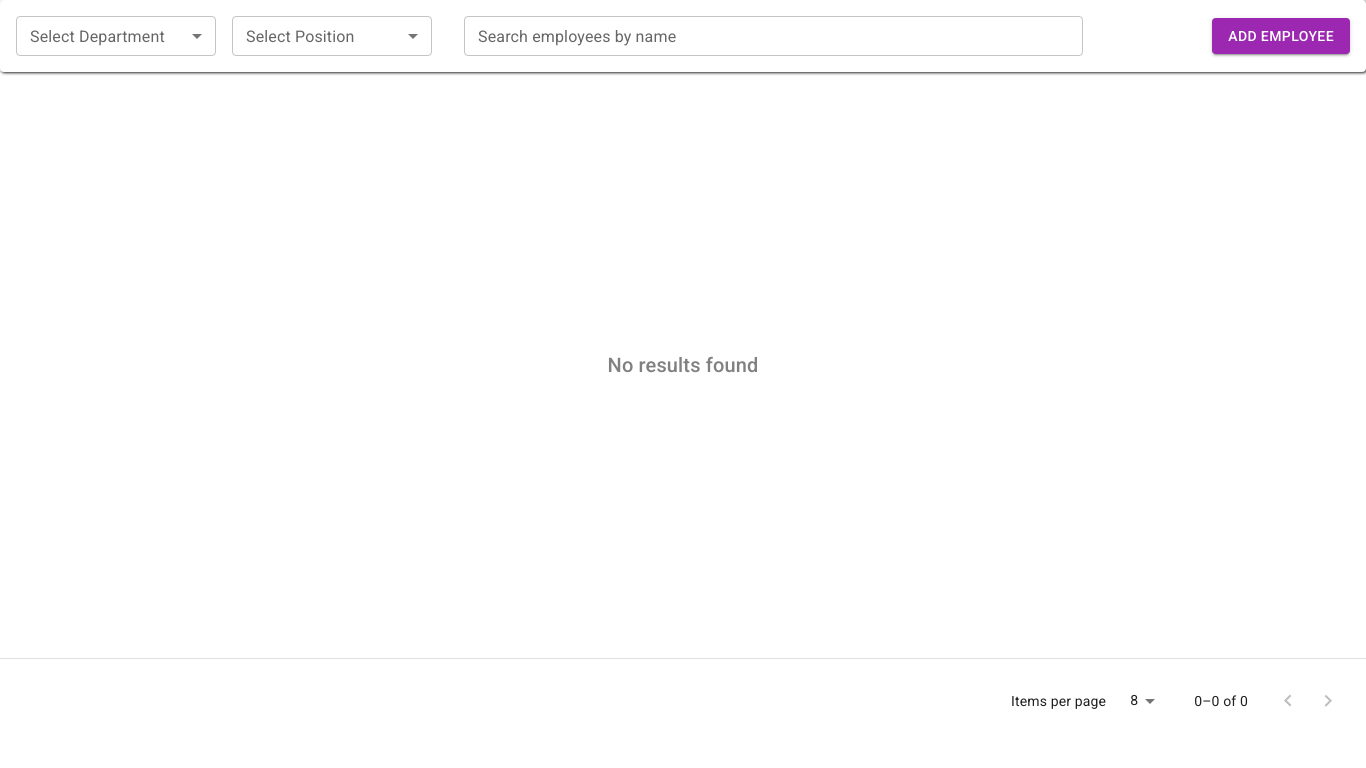
it: Parent Employees Component › should render Form Dialog component correctly
This screenshot has width=1366, height=768.
Click the button "Add Employee".
click(1281, 36)  # box [1212, 18, 1350, 54]
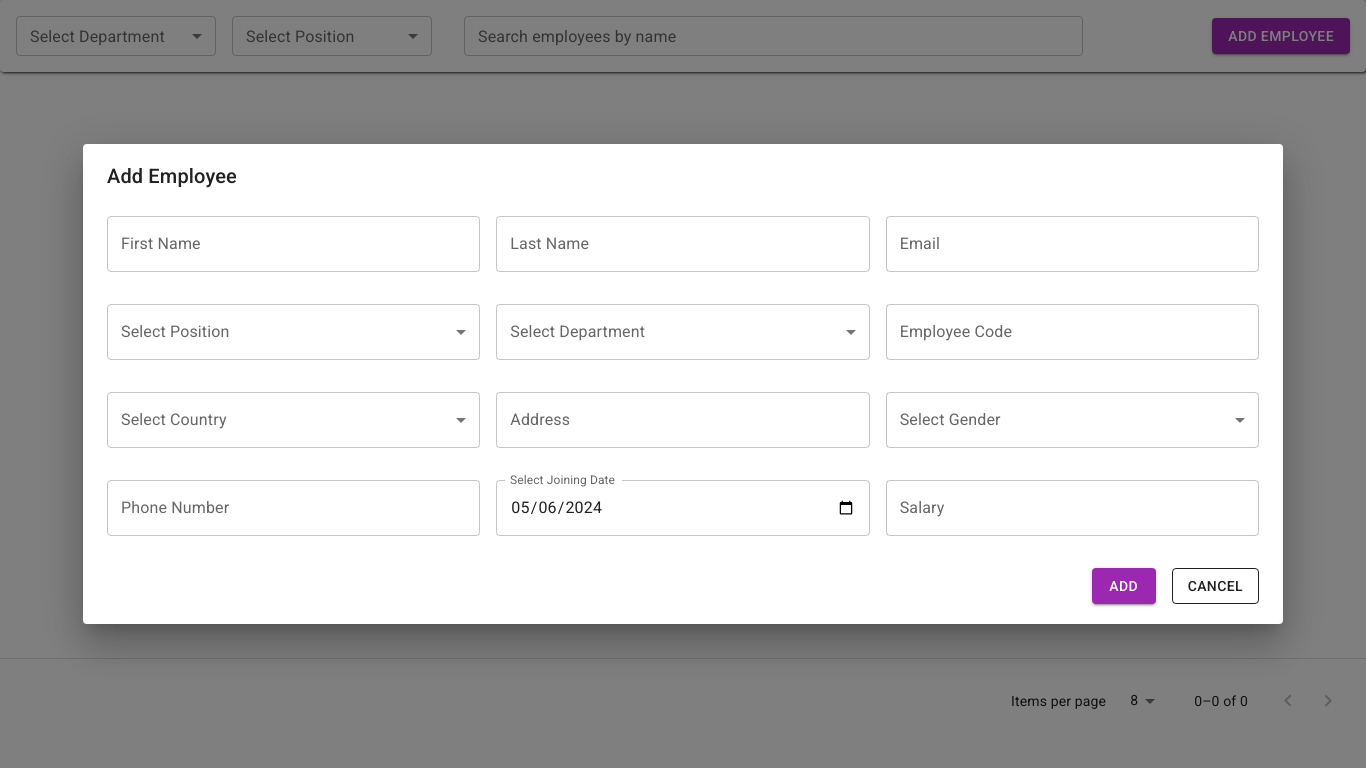
expect the element that starts with "Add Employee" is shown: met
